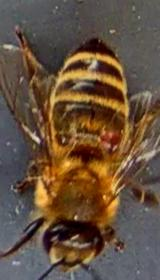varroa_mite: (81, 114, 130, 154)
